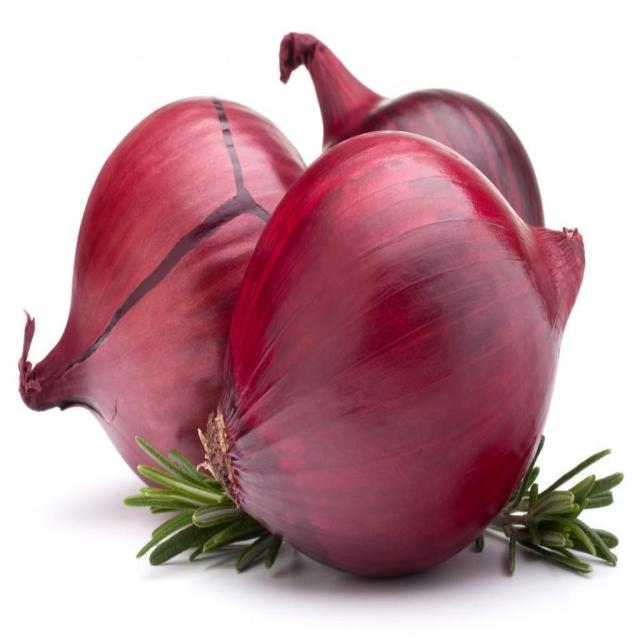Onion: (197, 130, 586, 579), (16, 97, 305, 491), (279, 31, 545, 230), (122, 431, 282, 571), (470, 434, 622, 577)
